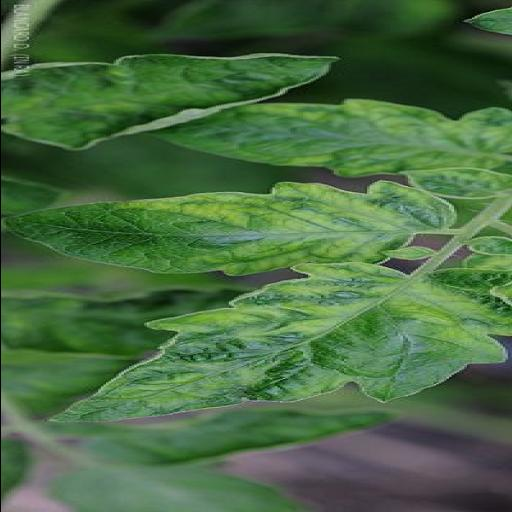disease_tomato: (44, 260, 512, 422), (0, 180, 466, 276), (0, 52, 339, 149), (148, 99, 512, 177)
